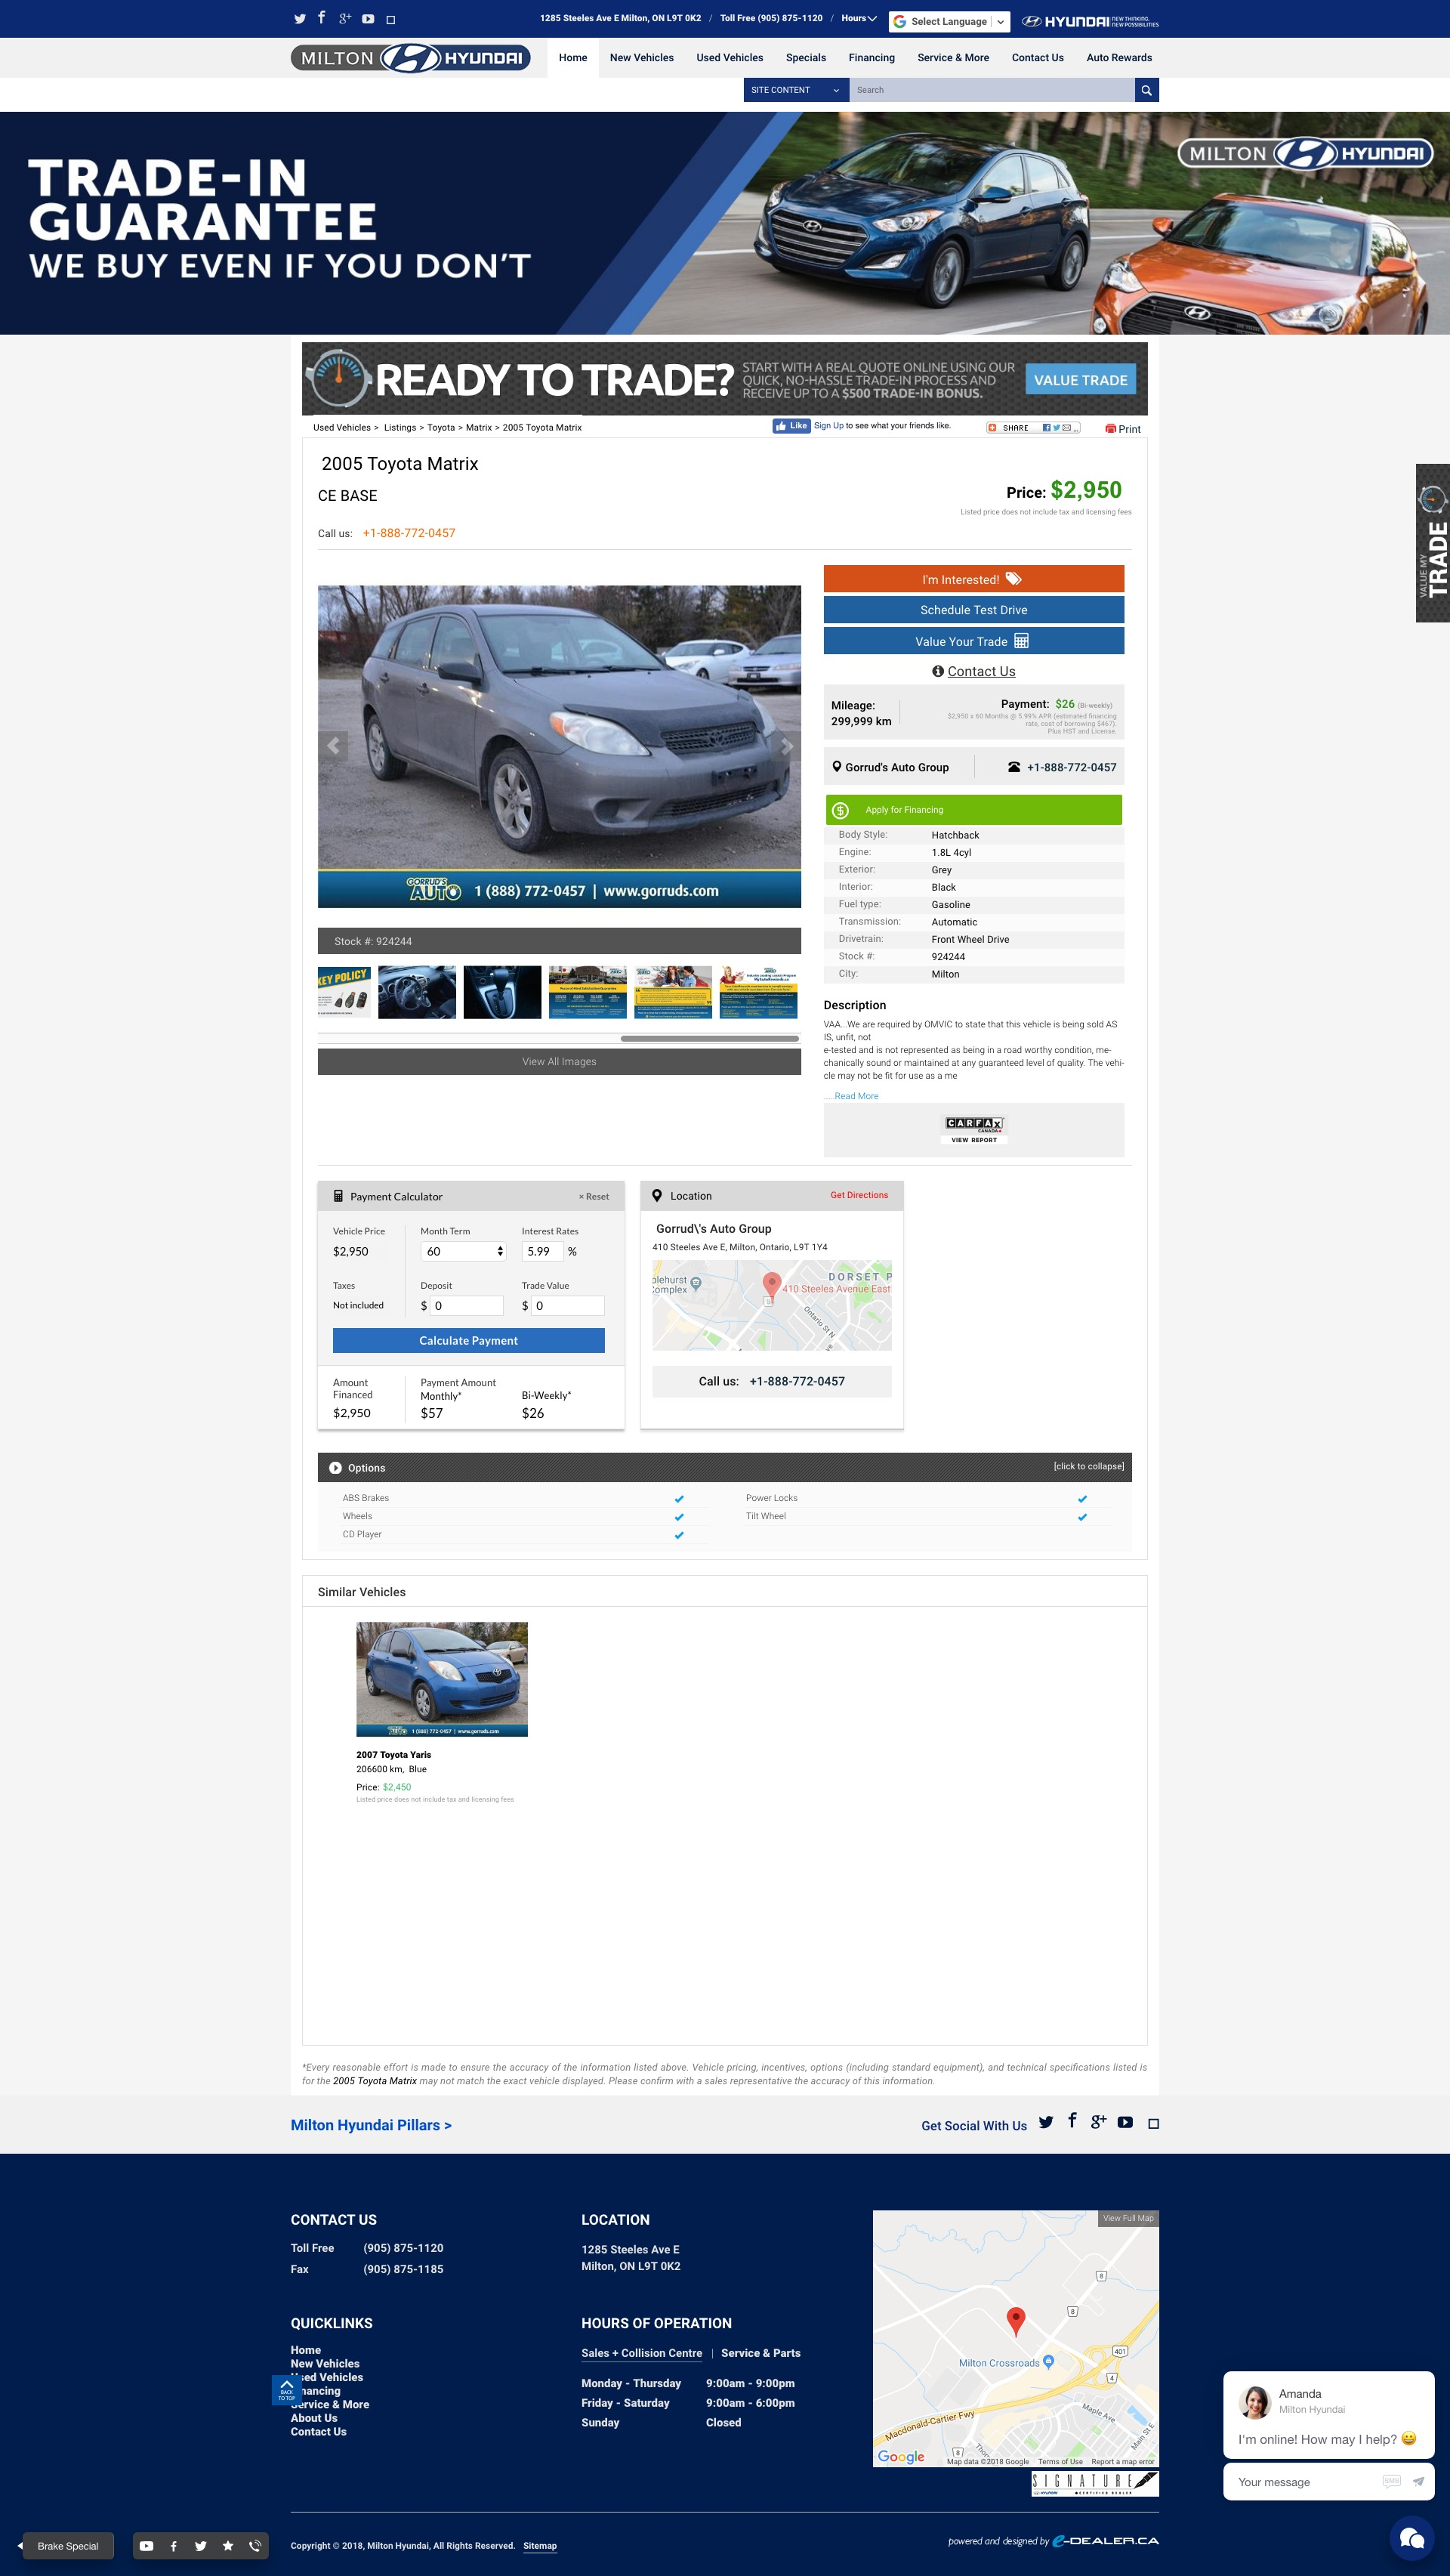car: (769, 731, 803, 764)
